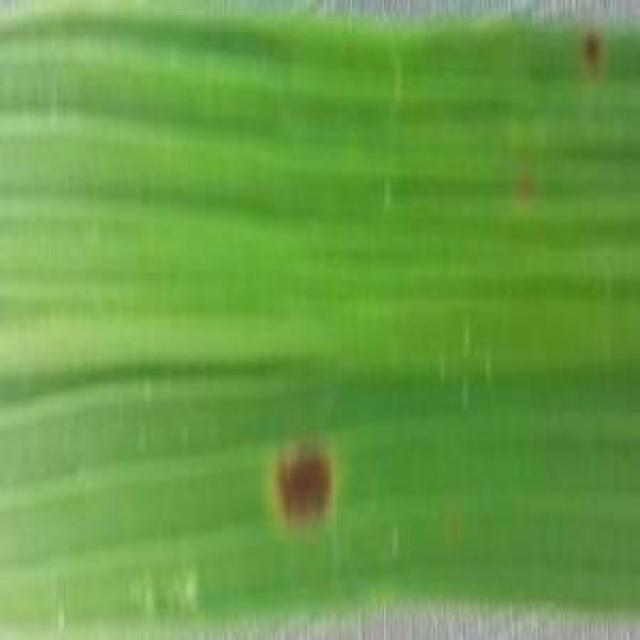Brown_Spot: (251, 433, 358, 522), (576, 30, 612, 83)
